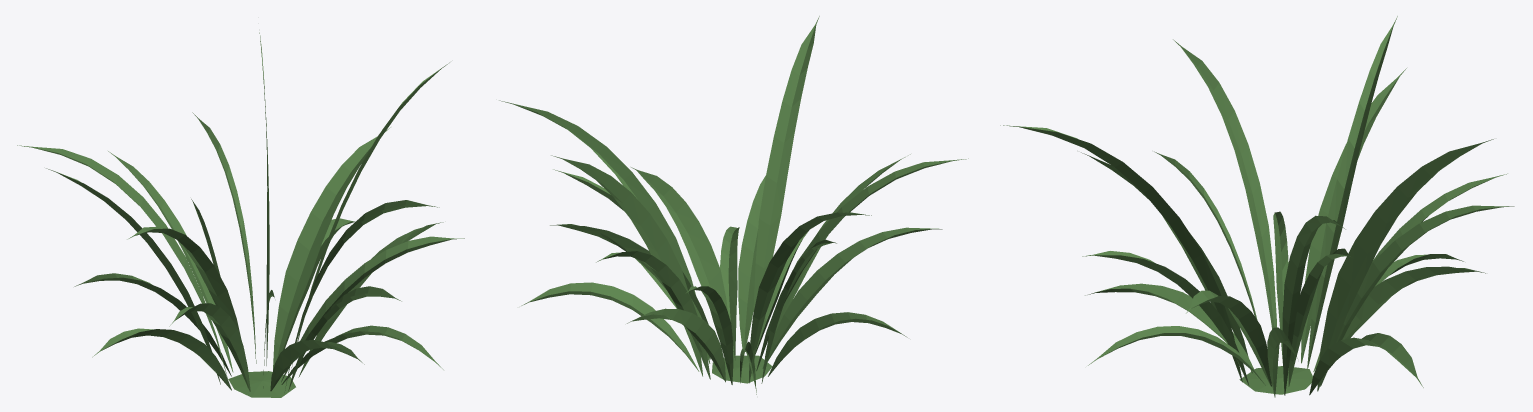
The model's file is gras2_neu.fbx.
3 views of the same model, side by side, from view 1: azimuth 30°, elevation 25°; view 2: azimuth 150°, elevation 25°; view 3: azimuth 270°, elevation 25° (orthographic). The views are drawn at different scales.
Parts seen in each view (by area): view 1: Gras2; view 2: Gras2; view 3: Gras2.
Part boxes in pixels (x1,y1,x2,y2): Gras2: (17, 32, 464, 397); Gras2: (499, 16, 968, 394); Gras2: (1000, 16, 1514, 397).
Size of the model in its own units: 0.7953 by 0.4983 by 0.8.
